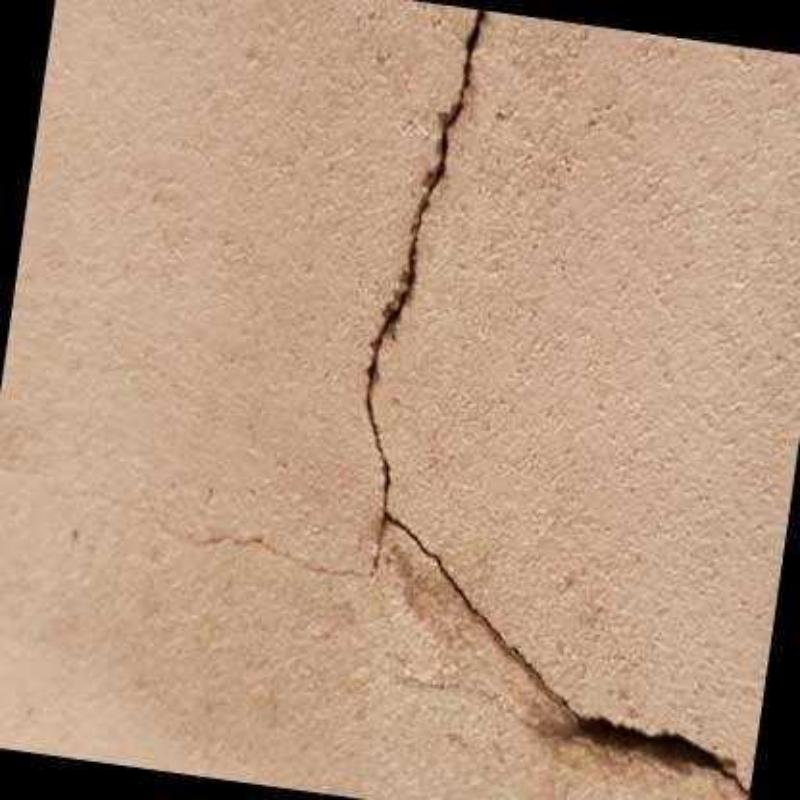pothole: (366, 8, 753, 798), (127, 504, 390, 581)
